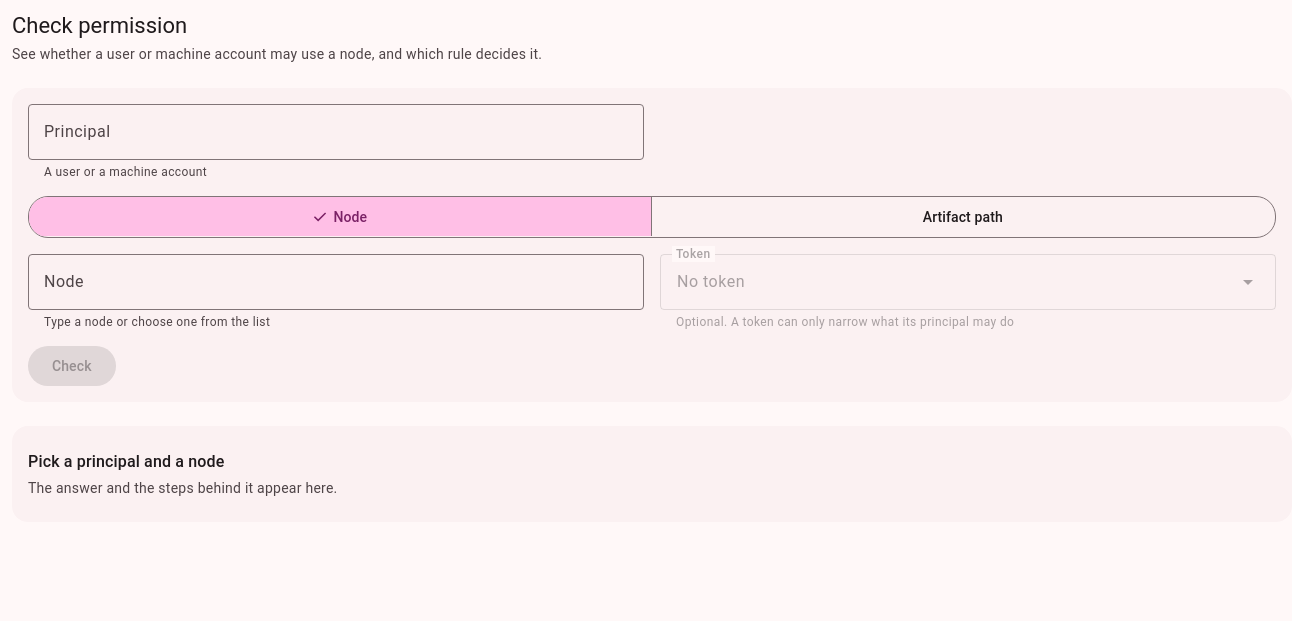
Test: CheckPermissionView › an artifact path › replaces the node field with the repository, the path and the action
Click the radio button with test id "mode-path": click(962, 216) [650, 196, 1274, 236]
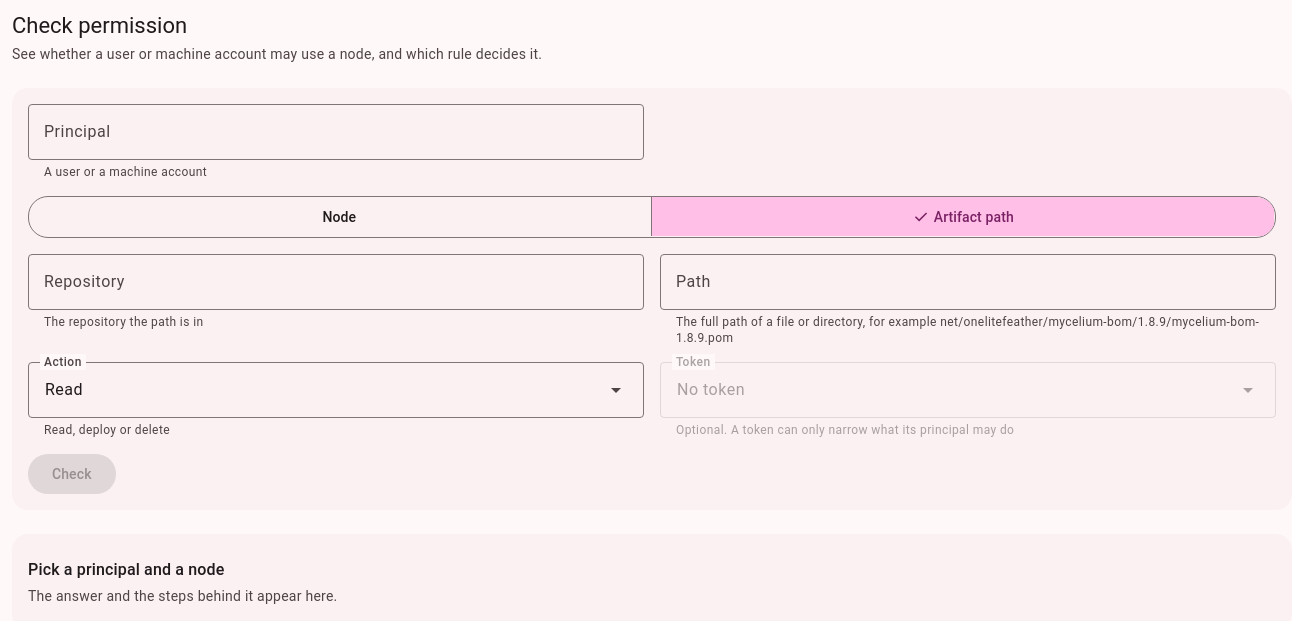
Expected: the field labelled "Repository" is shown, [28, 254, 644, 310]
Expected: the field labelled "Path" is shown, [660, 254, 1276, 310]
